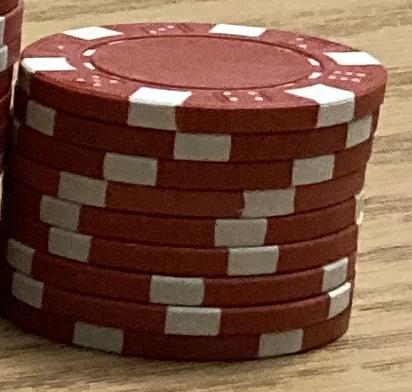Chip: (1, 1, 412, 392)
